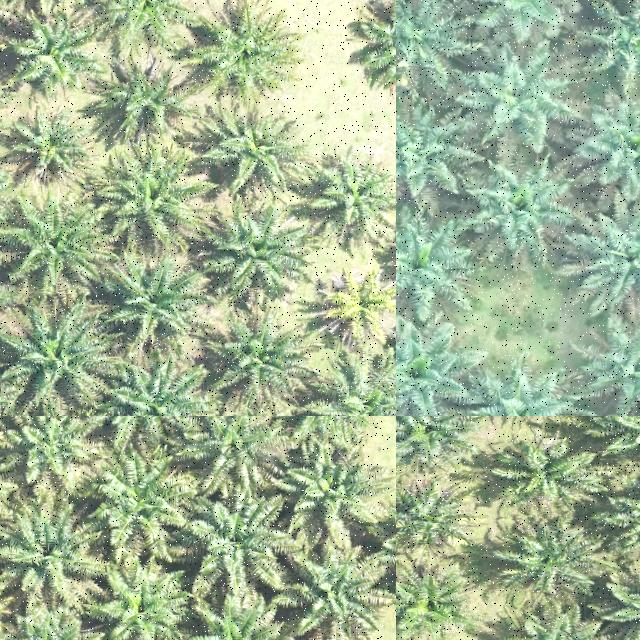Ganoderma: (324, 276, 394, 336)
